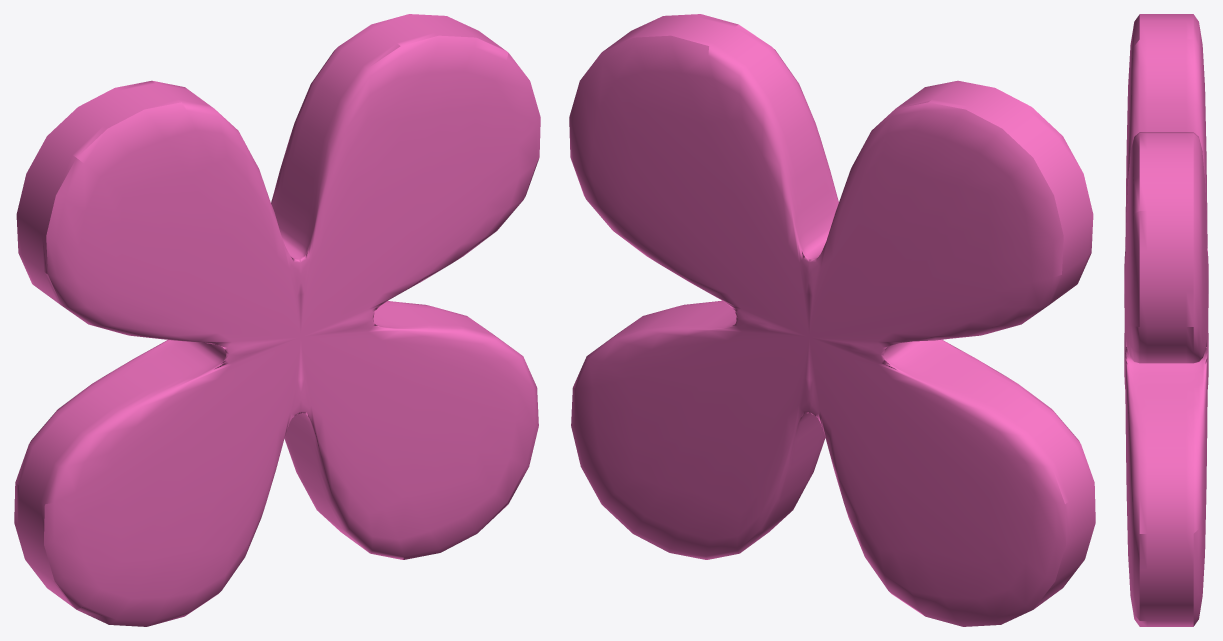
File: decor3.glb
The picture shows the model from 3 angles, left to right: view 1: azimuth 30°, elevation 25°; view 2: azimuth 150°, elevation 25°; view 3: azimuth 270°, elevation 25°; orthographic projection. The views are drawn at different scales.
Bounding box in the file's own units: 0.1672 × 0.1672 × 0.027.
